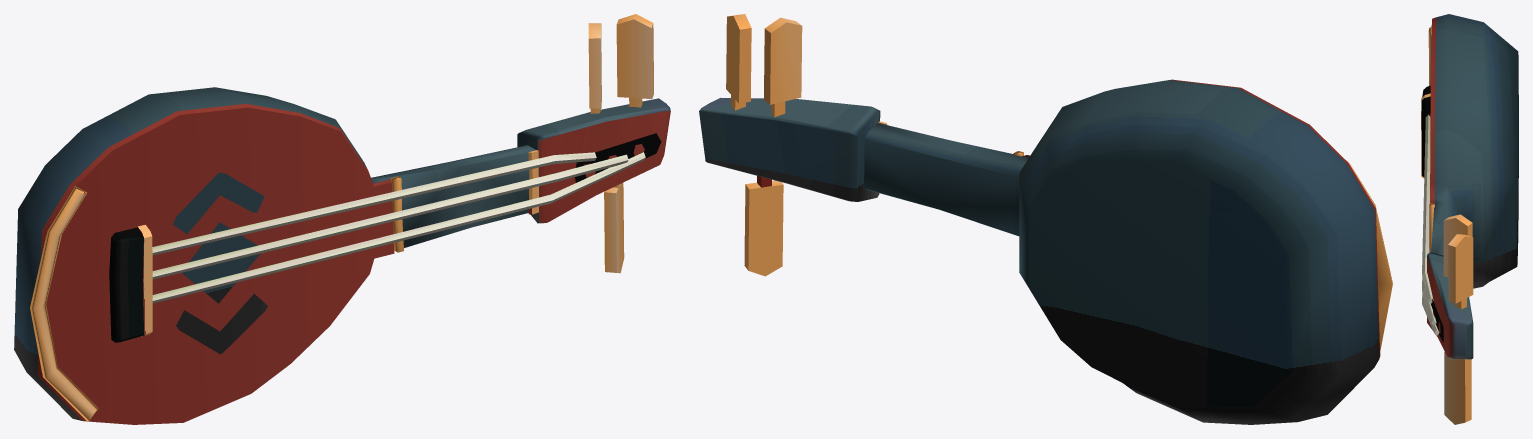
File: CharSkyKid_Prop_AP04Ukulele.glb
3 views of the same model, side by side, from view 1: azimuth 30°, elevation 25°; view 2: azimuth 150°, elevation 25°; view 3: azimuth 270°, elevation 25° (orthographic). The views are drawn at different scales.
Visible parts, largest first — view 1: CharSkyKid_Prop_AP04Ukulele; view 2: CharSkyKid_Prop_AP04Ukulele; view 3: CharSkyKid_Prop_AP04Ukulele.
Boxes of the visible parts, x1,y1,x2,y2 form: CharSkyKid_Prop_AP04Ukulele: [14, 14, 670, 424]; CharSkyKid_Prop_AP04Ukulele: [699, 14, 1392, 424]; CharSkyKid_Prop_AP04Ukulele: [1421, 14, 1518, 424].
Size of the model in its own units: 5.86 by 2.72 by 0.96.
1 material, 1 textured.
